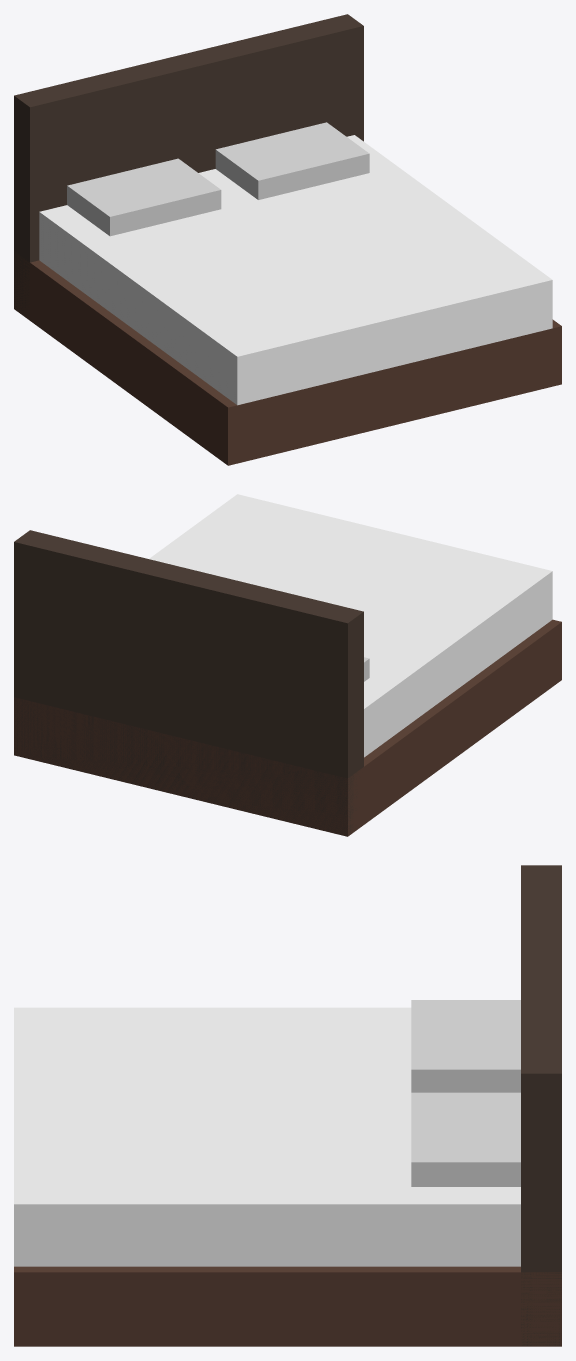
File: bed.glb
3 views of the same model, one above another, from view 1: azimuth 30°, elevation 25°; view 2: azimuth 150°, elevation 25°; view 3: azimuth 270°, elevation 25° (orthographic). The views are drawn at different scales.
Parts seen in each view (by area): view 1: Bed; view 2: Bed; view 3: Bed.
Boxes of the visible parts, box(x1,y1,x2,y2) form: Bed: box(14, 14, 561, 465); Bed: box(14, 494, 561, 836); Bed: box(14, 865, 561, 1346).
Size of the model in its own units: 1.8 by 1.1 by 2.
